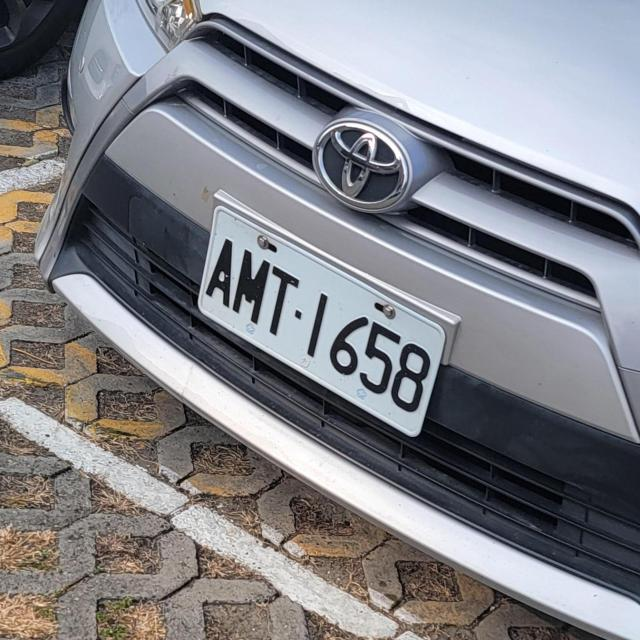W: (195, 202, 450, 442)
